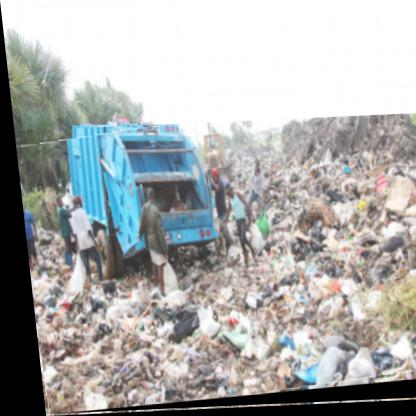Garbage: (12, 117, 416, 416)
